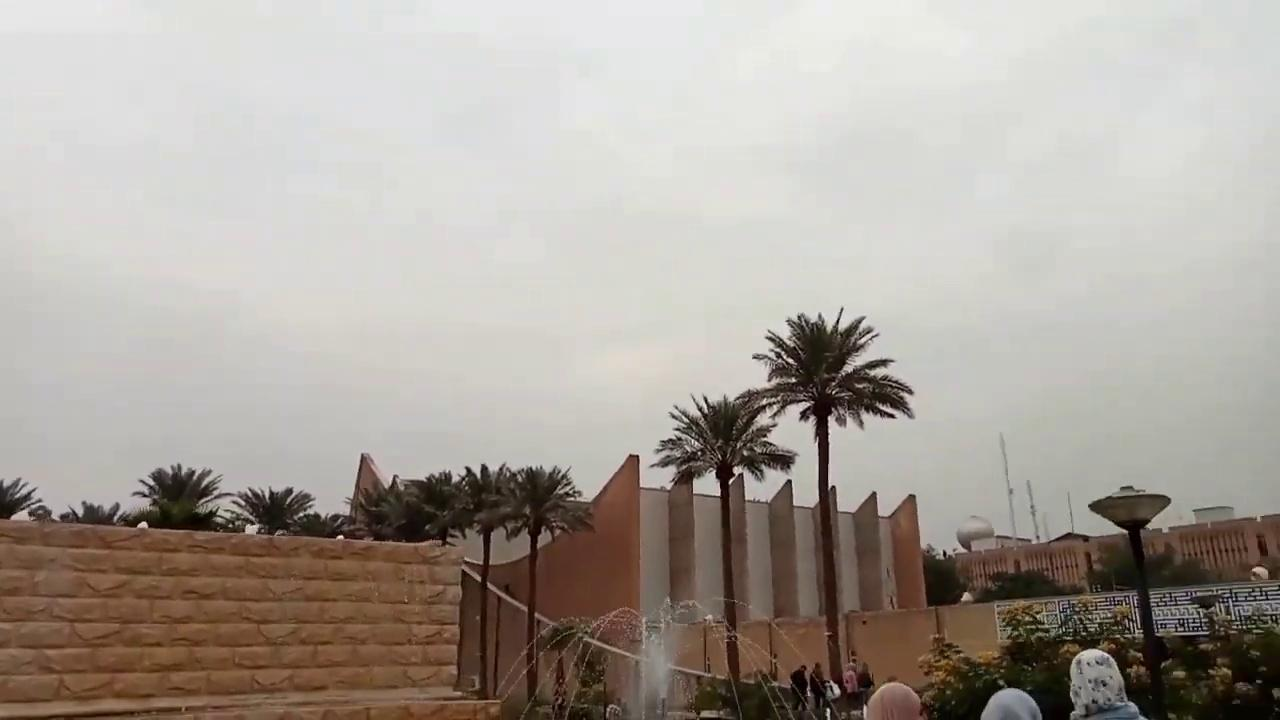fountain: (507, 593, 829, 718)
person: (1068, 648, 1146, 719), (865, 681, 923, 719), (980, 686, 1042, 719), (788, 664, 809, 716), (808, 662, 827, 719), (856, 661, 874, 717), (843, 661, 859, 719)
tree: (737, 305, 916, 689), (352, 460, 596, 701), (648, 390, 797, 703), (916, 600, 1279, 719), (494, 463, 596, 704), (451, 461, 517, 698), (129, 461, 230, 530), (354, 474, 426, 542), (406, 469, 468, 546), (229, 484, 315, 534), (344, 483, 393, 539), (921, 548, 965, 606), (0, 476, 41, 519), (61, 500, 125, 525)
